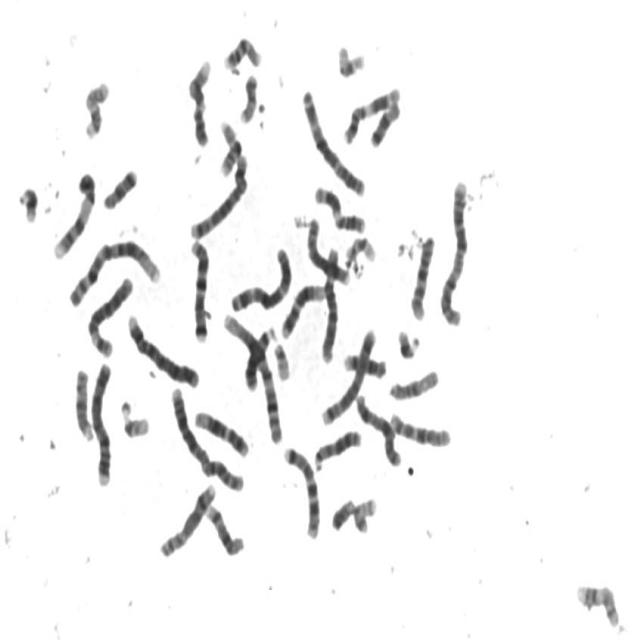A1: (219, 306, 285, 445), (65, 230, 164, 310)
A2: (166, 379, 248, 495), (436, 171, 472, 328)
A3: (298, 82, 368, 197), (227, 240, 296, 314)
B4: (124, 308, 202, 390), (88, 354, 116, 488)
B5: (318, 320, 380, 427), (187, 147, 252, 240)
C10: (386, 405, 454, 449), (407, 227, 438, 322)
C11: (340, 78, 403, 146), (311, 177, 369, 235)
C12: (190, 402, 252, 459), (278, 276, 328, 340)
C6: (85, 269, 136, 359), (318, 241, 342, 364)
C7: (280, 439, 324, 541), (188, 231, 212, 345)
C8: (156, 476, 218, 560), (304, 211, 352, 287)
C9: (50, 165, 98, 261), (184, 52, 215, 149)
D13: (240, 318, 280, 392), (311, 421, 364, 473)
D14: (203, 497, 247, 558), (340, 344, 387, 380)
D15: (386, 361, 442, 403), (71, 361, 96, 442)
E16: (221, 28, 265, 72), (216, 112, 244, 178)
E17: (574, 575, 622, 630), (80, 72, 113, 140)
E18: (100, 160, 140, 211), (367, 94, 403, 149)
F19: (334, 36, 368, 80), (342, 228, 380, 266)
F20: (236, 66, 261, 124), (350, 491, 380, 534)
G21: (14, 177, 42, 225), (394, 322, 423, 361)
G22: (117, 394, 153, 440), (270, 336, 293, 381)
X: (353, 387, 404, 469)
Y: (328, 492, 356, 532)
